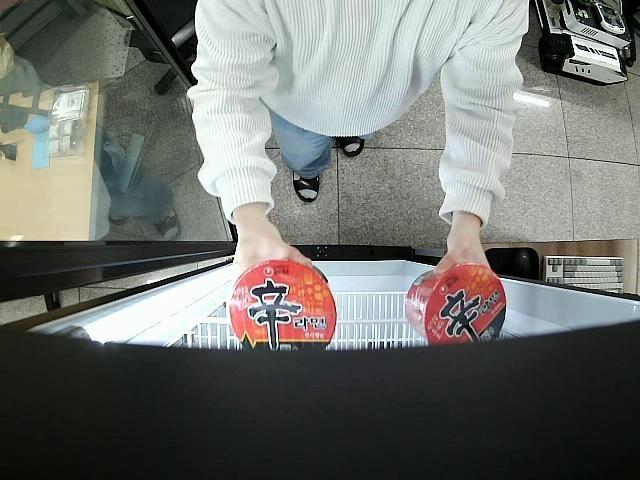01_ShinRamen_L: (228, 260, 338, 351), (403, 263, 508, 345)
